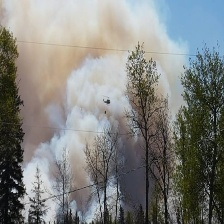smoke: (3, 3, 188, 211)
